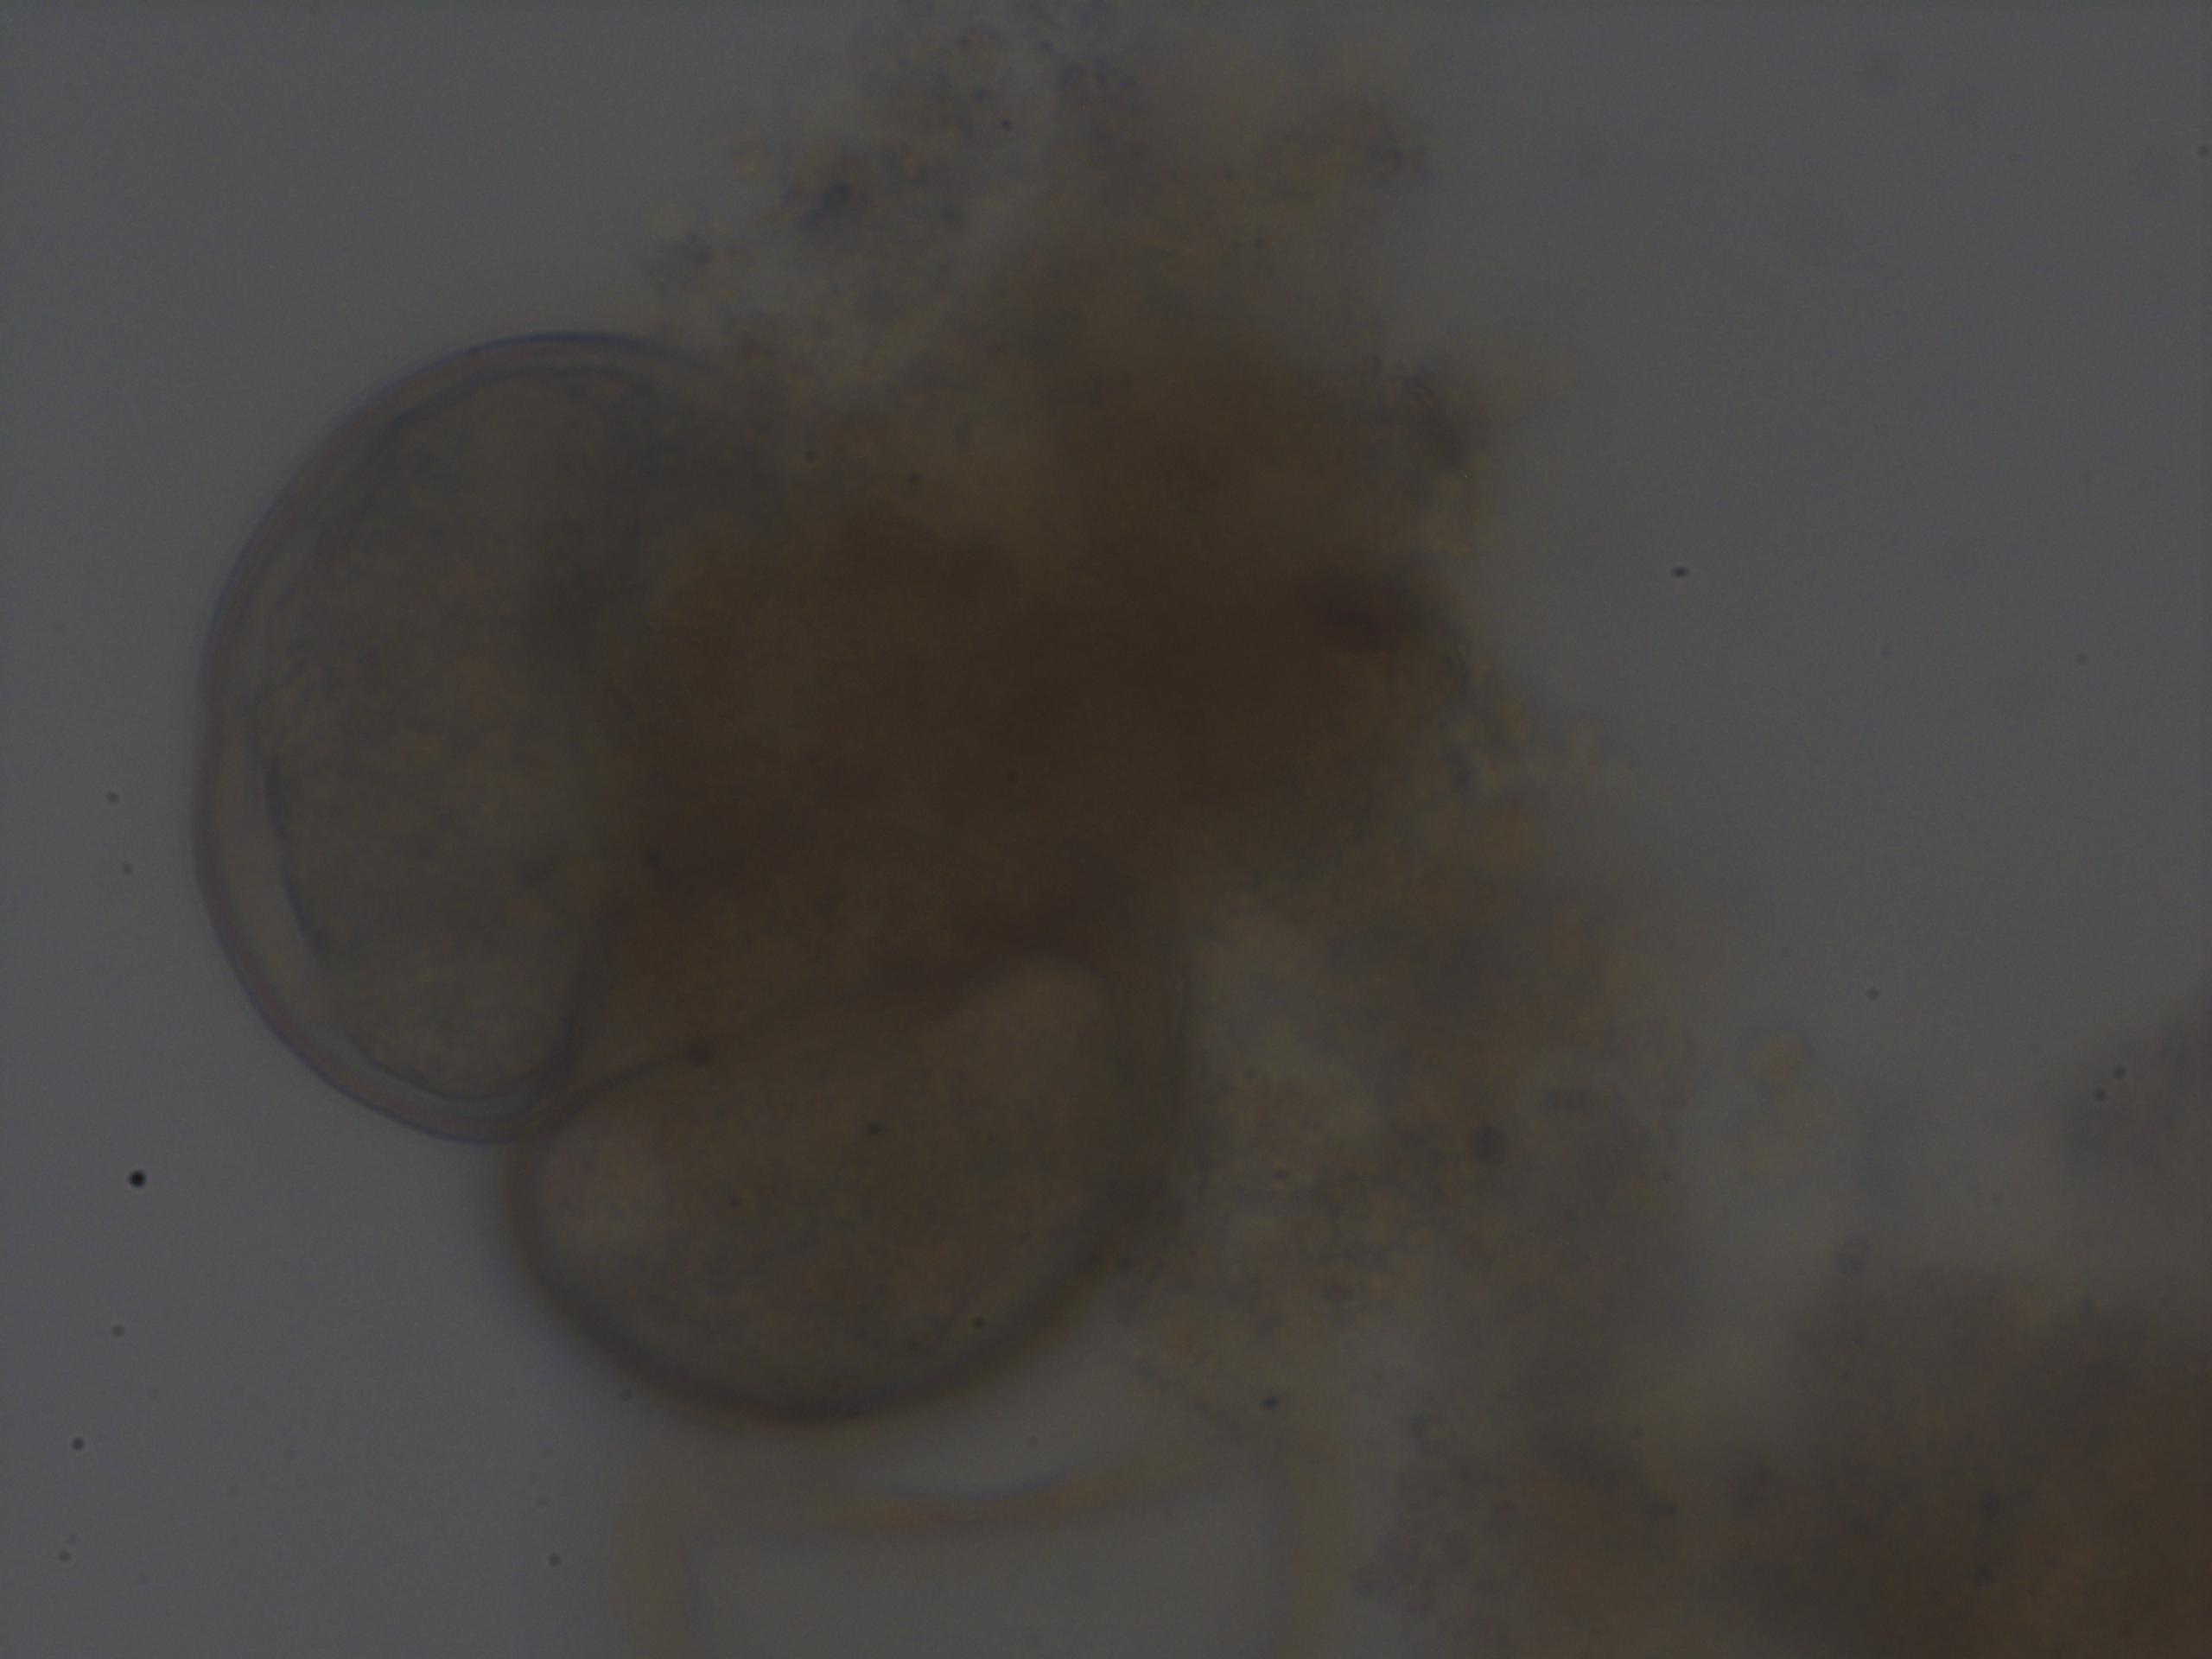protozoa: (176, 319, 756, 1150), (498, 931, 1188, 1432)
